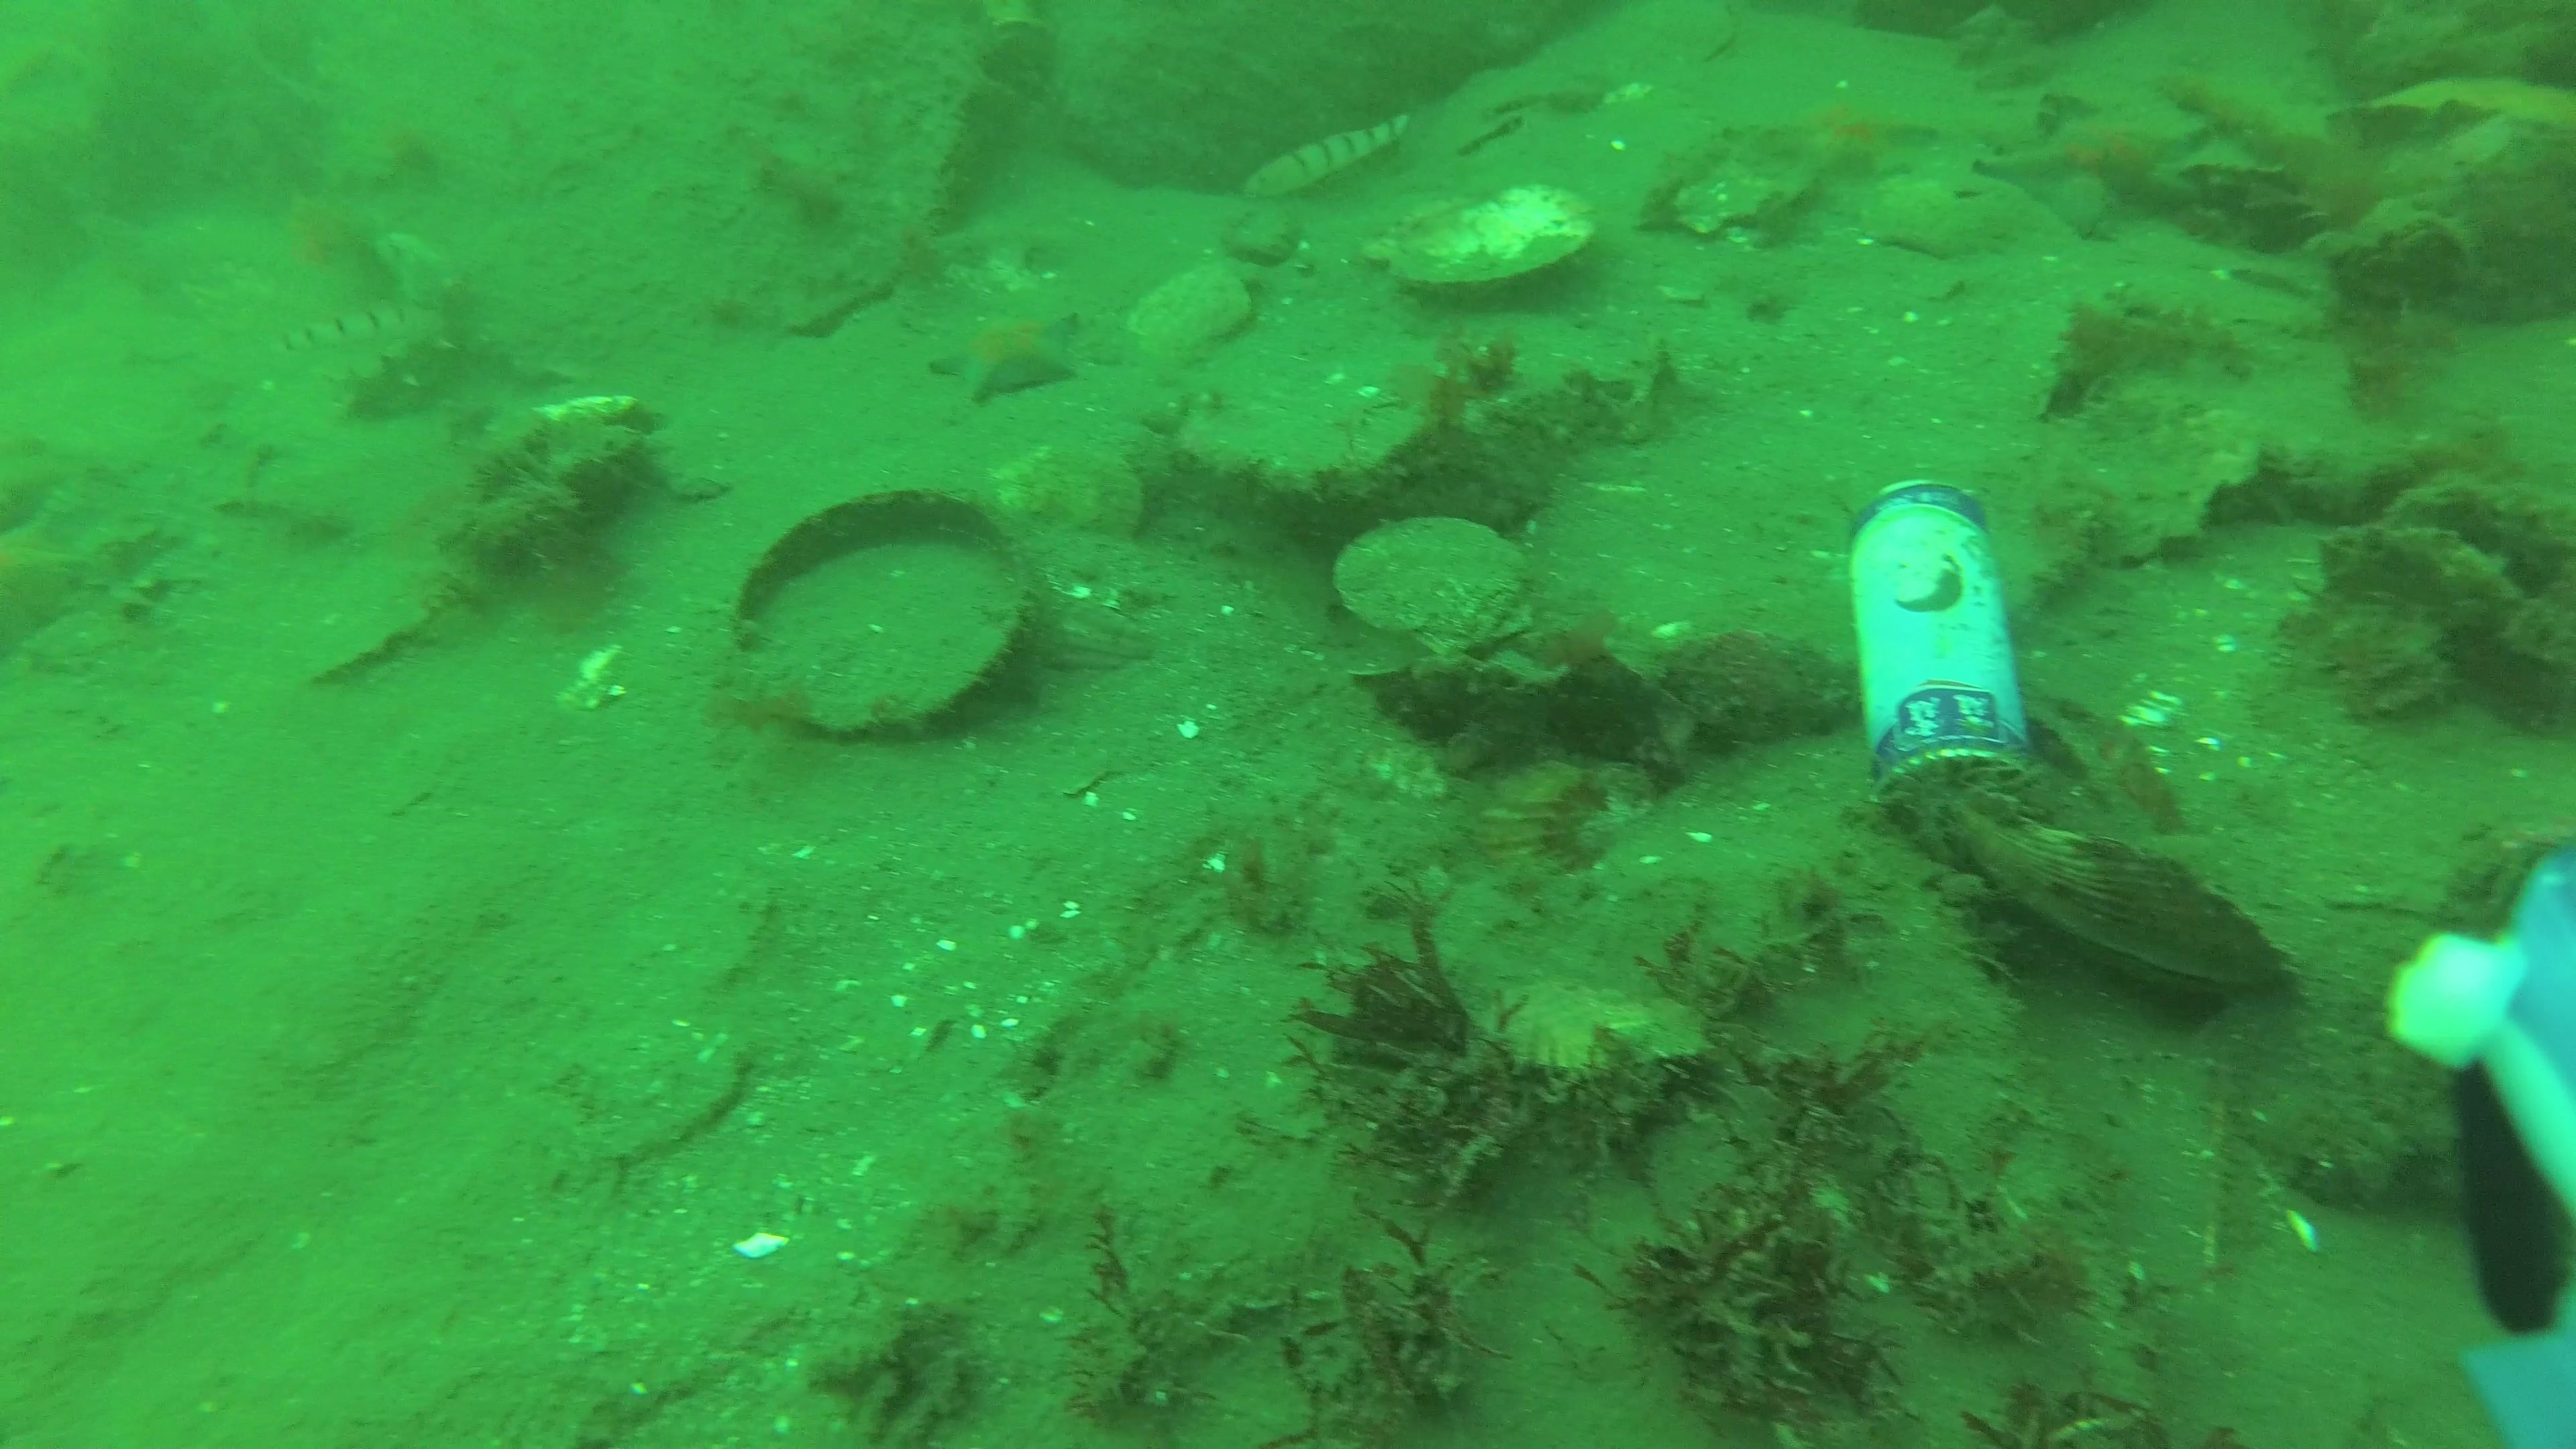holothurian: (345, 235, 460, 421)
scallop: (1944, 819, 2300, 994), (1359, 163, 1608, 297), (1332, 513, 1527, 655), (1486, 987, 1702, 1081), (989, 439, 1143, 563), (303, 550, 437, 688), (1123, 265, 1254, 357)
starfish: (1980, 99, 2215, 234), (927, 311, 1083, 409)
